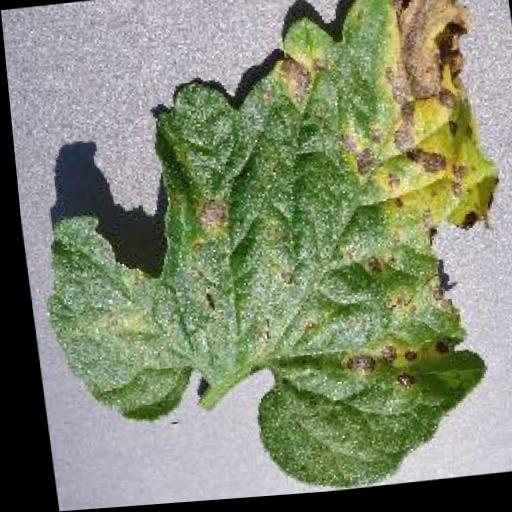Septoria: (8, 0, 512, 512)
